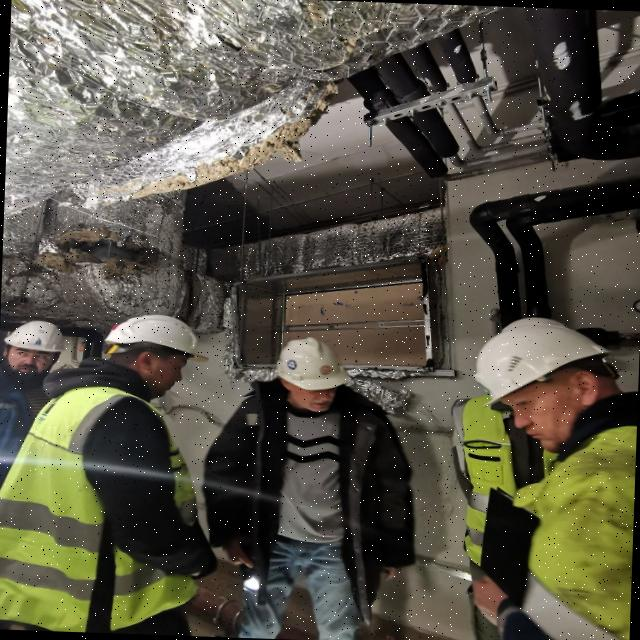Helmet: (471, 317, 609, 412), (107, 314, 203, 364), (275, 337, 349, 392), (3, 319, 70, 356)
Jacket: (1, 386, 177, 628), (508, 434, 637, 640), (469, 416, 511, 557)
NoJacket: (220, 401, 388, 561), (1, 359, 28, 453)
